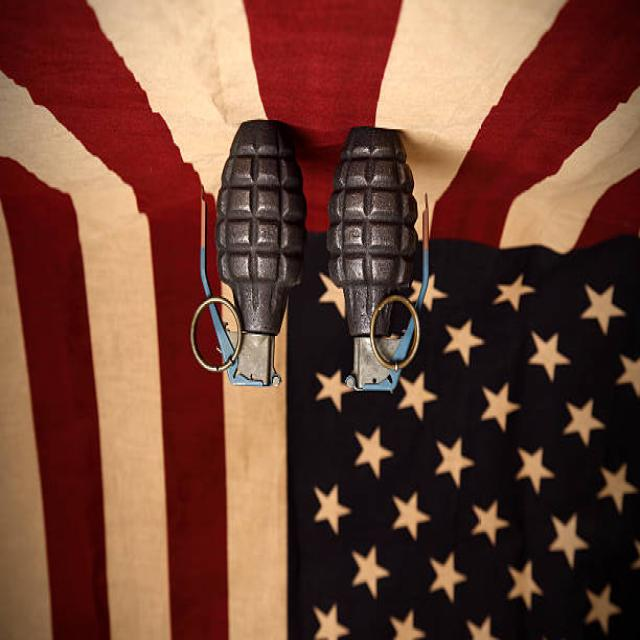grenade: (190, 118, 314, 395), (326, 125, 438, 402)
